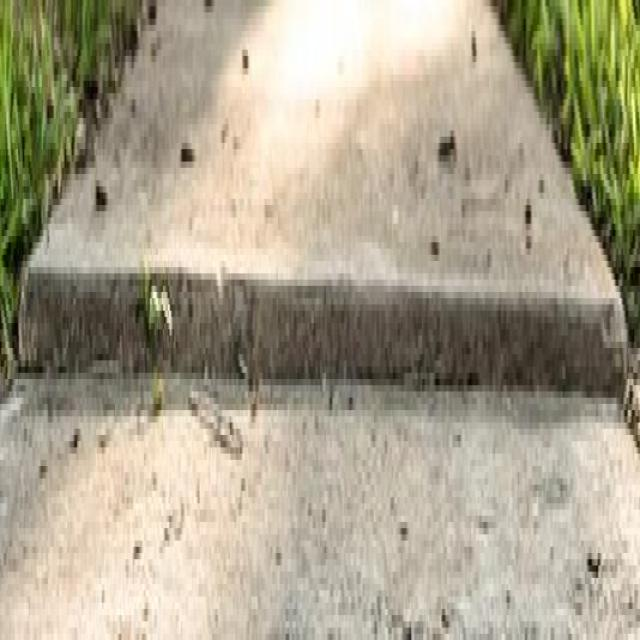bump: (16, 106, 633, 496)
